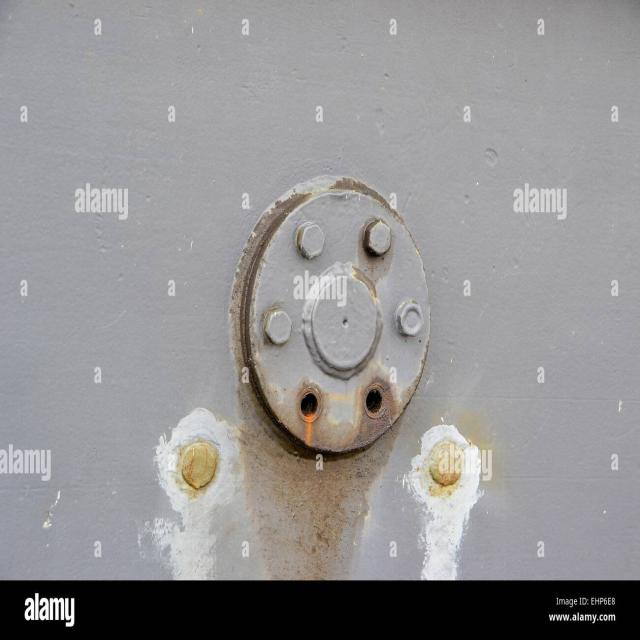Missing bolt: (356, 382, 394, 424), (295, 383, 327, 428)
Regular bolt: (298, 219, 327, 262), (396, 301, 426, 339), (265, 307, 293, 347), (365, 219, 393, 257)
